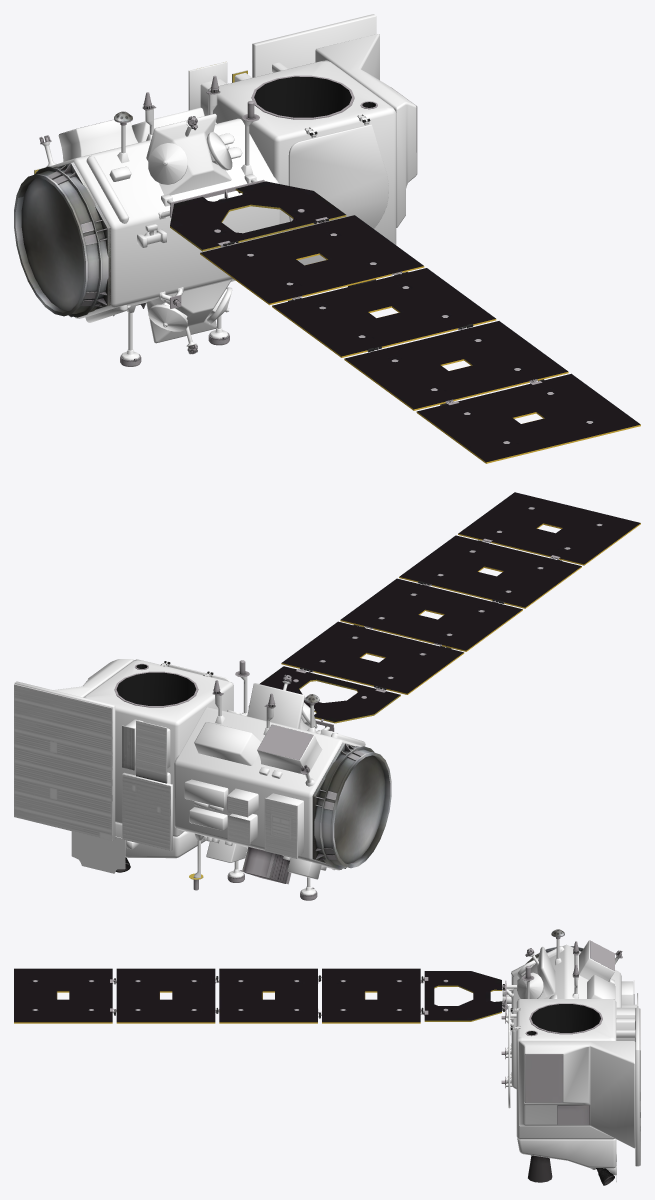
Rendered from ICESat2.gltf.
3 renders of one model, top to bottom at view 1: azimuth 30°, elevation 25°; view 2: azimuth 150°, elevation 25°; view 3: azimuth 270°, elevation 25°, orthographic. The views are drawn at different scales.
Parts seen in each view (by area): view 1: BUS, solar_panels, instruments, Atlas scope, hinges; view 2: instruments, BUS, solar_panels, Atlas scope; view 3: solar_panels, BUS, instruments, Atlas scope, hinges.
Part boxes in pixels (bbox=[...]): BUS: bbox=[36, 14, 416, 360]; solar_panels: bbox=[200, 215, 640, 463]; instruments: bbox=[14, 14, 417, 366]; Atlas scope: bbox=[251, 75, 377, 119]; hinges: bbox=[186, 114, 544, 405]; instruments: bbox=[14, 660, 400, 900]; BUS: bbox=[14, 659, 365, 895]; solar_panels: bbox=[281, 492, 640, 694]; Atlas scope: bbox=[114, 663, 198, 707]; solar_panels: bbox=[14, 968, 420, 1023]; BUS: bbox=[502, 939, 639, 1181]; instruments: bbox=[424, 929, 640, 1185]; Atlas scope: bbox=[525, 1003, 602, 1036]; hinges: bbox=[110, 975, 520, 1034].
Bounding box in the file's own units: 3.63 × 2.31 × 7.34.
Materials: 9 (1 with a texture image).
